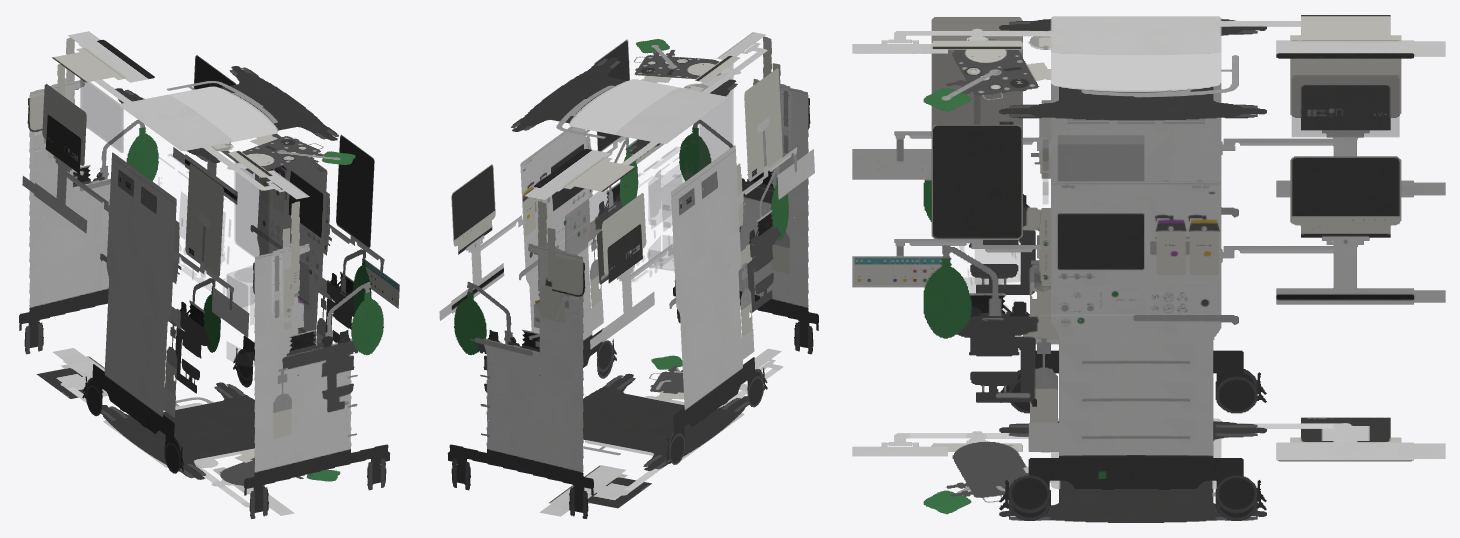
The model's file is anesthesia-machine-1024.glb.
3 views of the same model, side by side, from view 1: azimuth 30°, elevation 25°; view 2: azimuth 150°, elevation 25°; view 3: azimuth 270°, elevation 25° (orthographic). The views are drawn at different scales.
Visible parts, largest first — view 1: box_impostor (×5); view 2: box_impostor (×5); view 3: box_impostor (×5).
Part boxes in pixels (x1,y1,x2,y2): box_impostor (×5): [19, 31, 399, 518]; box_impostor (×5): [439, 32, 818, 518]; box_impostor (×5): [852, 15, 1445, 522].
Size of the model in its own units: 0.9624 by 1.78 by 2.26.
Materials: 6 (6 with a texture image).
